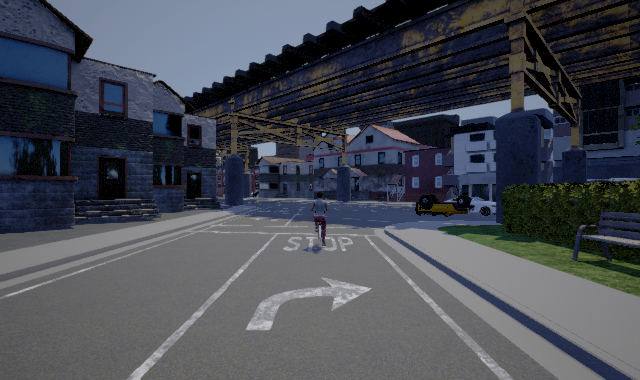bike: (307, 190, 332, 253)
vehicle: (415, 194, 496, 217)
